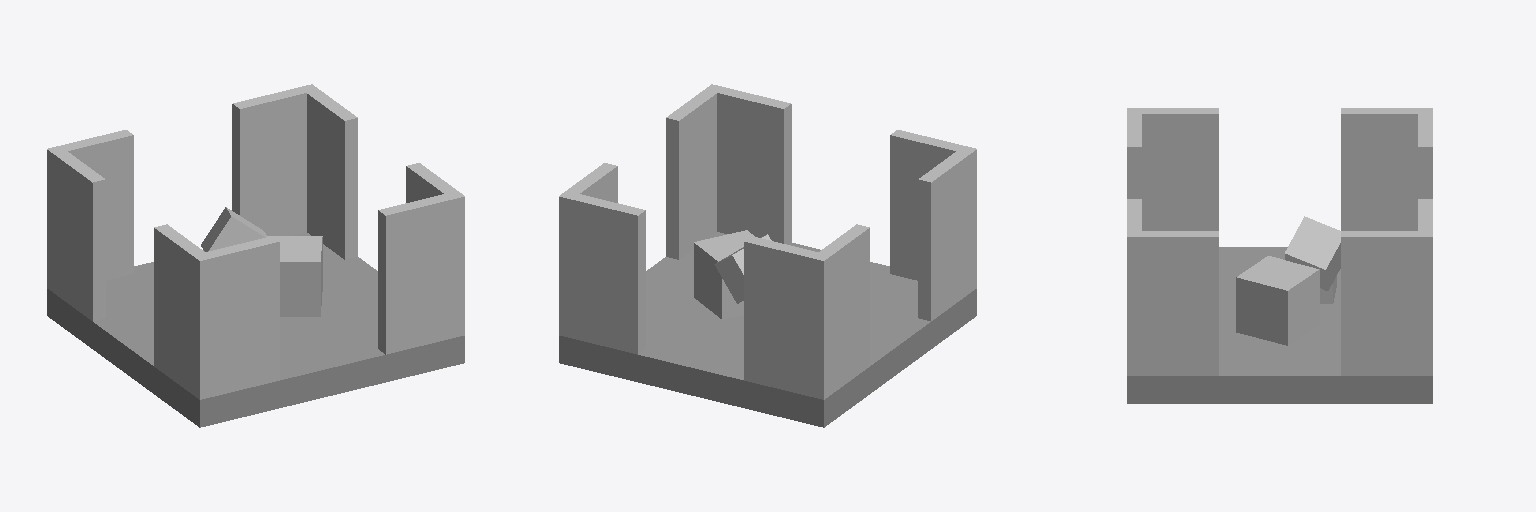
The model's file is big-room-4-exit_3.obj.
3 views of the same model, side by side, from view 1: azimuth 30°, elevation 25°; view 2: azimuth 150°, elevation 25°; view 3: azimuth 270°, elevation 25° (orthographic).
Parts seen in each view (by area): view 1: Cube.005, Cube, Cube.003_Cube.000, Cube.002_Cube.001; view 2: Cube.005, Cube, Cube.003_Cube.000, Cube.002_Cube.001; view 3: Cube.005, Cube, Cube.003_Cube.000, Cube.002_Cube.001.
Part boxes in pixels (bbox=[...]): Cube.005: bbox=[47, 84, 464, 399]; Cube: bbox=[47, 232, 464, 427]; Cube.003_Cube.000: bbox=[267, 236, 322, 316]; Cube.002_Cube.001: bbox=[201, 207, 266, 251]; Cube.005: bbox=[559, 84, 976, 399]; Cube: bbox=[559, 232, 976, 427]; Cube.003_Cube.000: bbox=[694, 230, 754, 319]; Cube.002_Cube.001: bbox=[714, 234, 771, 303]; Cube.005: bbox=[1127, 108, 1432, 375]; Cube: bbox=[1127, 247, 1432, 403]; Cube.003_Cube.000: bbox=[1236, 256, 1319, 345]; Cube.002_Cube.001: bbox=[1285, 216, 1340, 290].
Bounding box in the file's own units: 10 × 6 × 10.